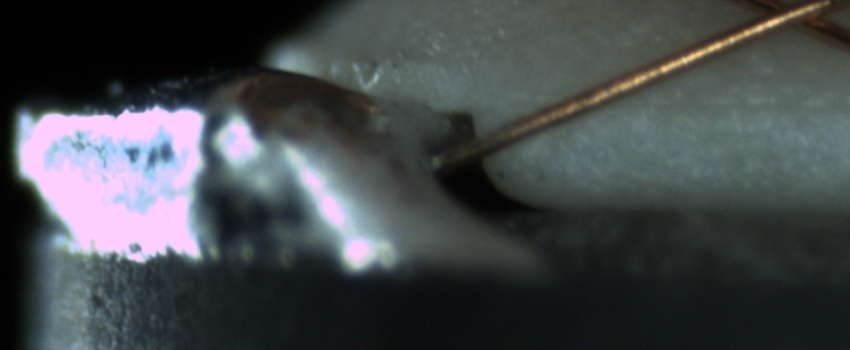CL: (721, 1, 839, 39)
DL: (618, 69, 845, 139)
